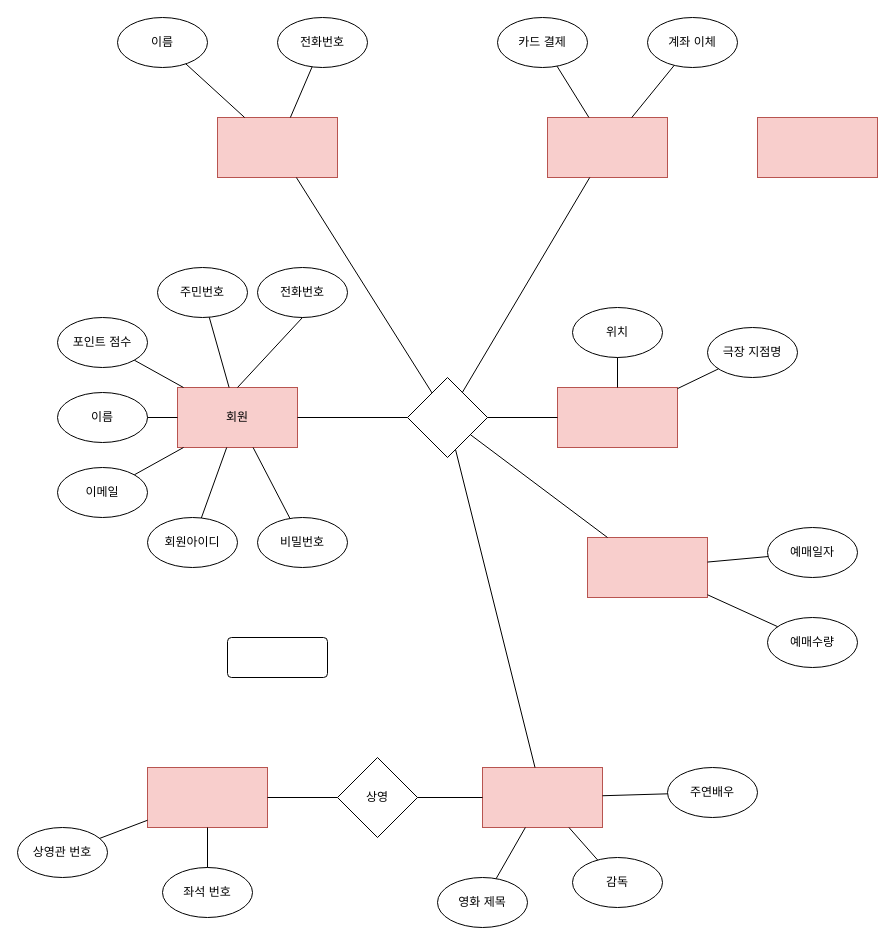
Image size: 895x945. Some labels were removed from this diagram. Here are the shapes that lost their labels. From the top down, the box of each, then its label:
(216, 116, 338, 178): 비회원
(546, 116, 668, 178): 결제
(756, 116, 878, 178): 취소
(406, 376, 488, 458): 예매
(556, 386, 678, 448): 극장
(586, 536, 708, 598): 영화표
(226, 636, 328, 678): 결ㅈ
(146, 766, 268, 828): 상영관
(482, 766, 602, 828): 영화
